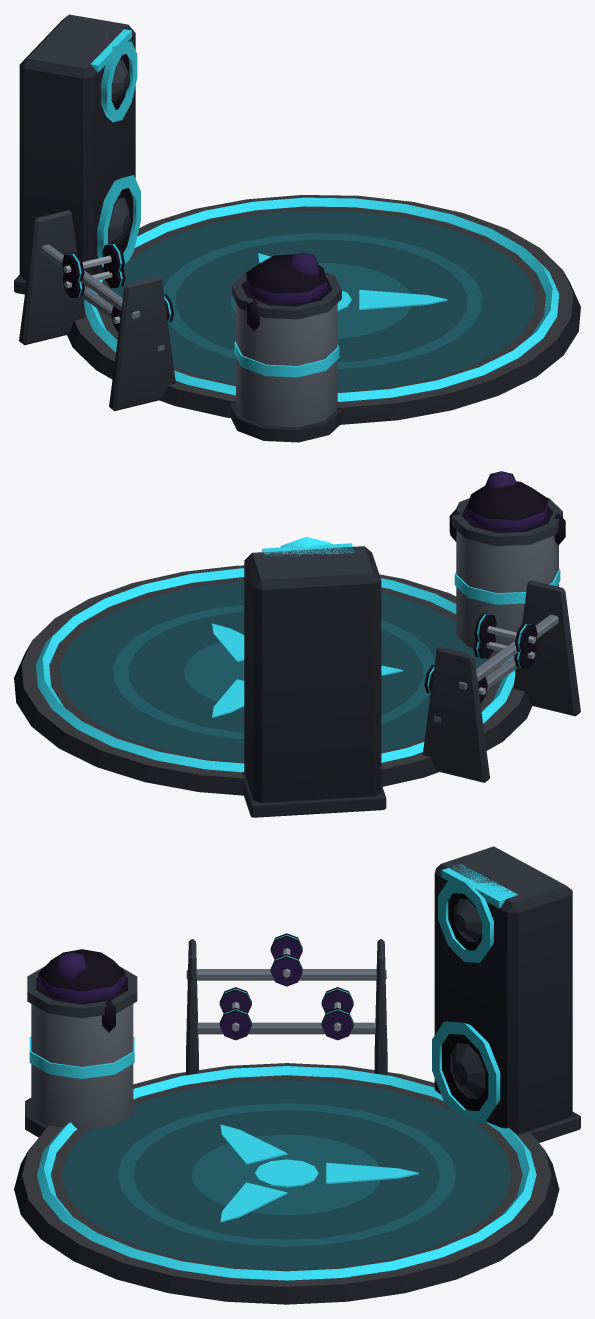
The model's file is train_3.glb.
3 views of the same model, one above another, from view 1: azimuth 30°, elevation 25°; view 2: azimuth 150°, elevation 25°; view 3: azimuth 270°, elevation 25° (orthographic). The views are drawn at different scales.
Visible parts, largest first — view 1: Body, Glow; view 2: Body, Glow; view 3: Body, Glow.
Part boxes in pixels (x1,y1,x2,y2): Body: (14, 14, 580, 442); Glow: (84, 29, 559, 401); Body: (14, 471, 580, 817); Glow: (36, 537, 560, 772); Body: (14, 846, 580, 1304); Glow: (29, 864, 536, 1280).
Size of the model in its own units: 2.93 by 1.38 by 2.85.
